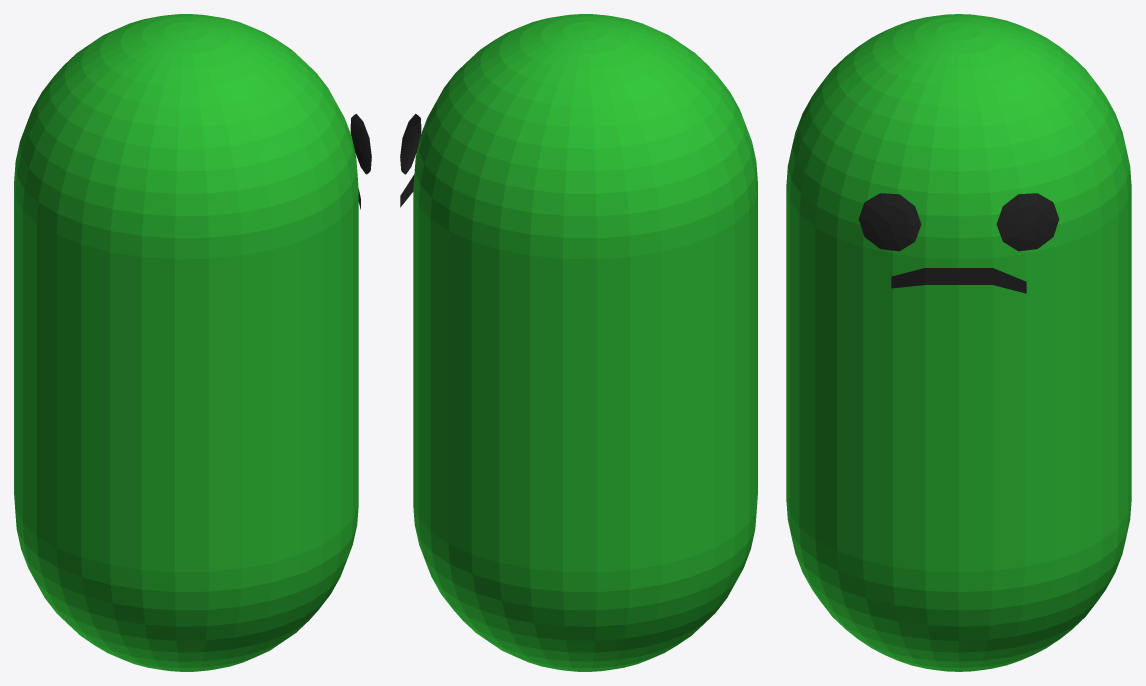
The model's file is Enemy just dude.fbx.
The picture shows the model from 3 angles, left to right: view 1: azimuth 30°, elevation 25°; view 2: azimuth 150°, elevation 25°; view 3: azimuth 270°, elevation 25°; orthographic projection.
Visible parts, largest first — view 1: Circle.002; view 2: Circle.002; view 3: Circle.002.
Boxes of the visible parts, x1,y1,x2,y2 form: Circle.002: (14,14,371,671); Circle.002: (400,14,757,671); Circle.002: (786,14,1131,671).
Size of the model in its own units: 201 by 400 by 200.
